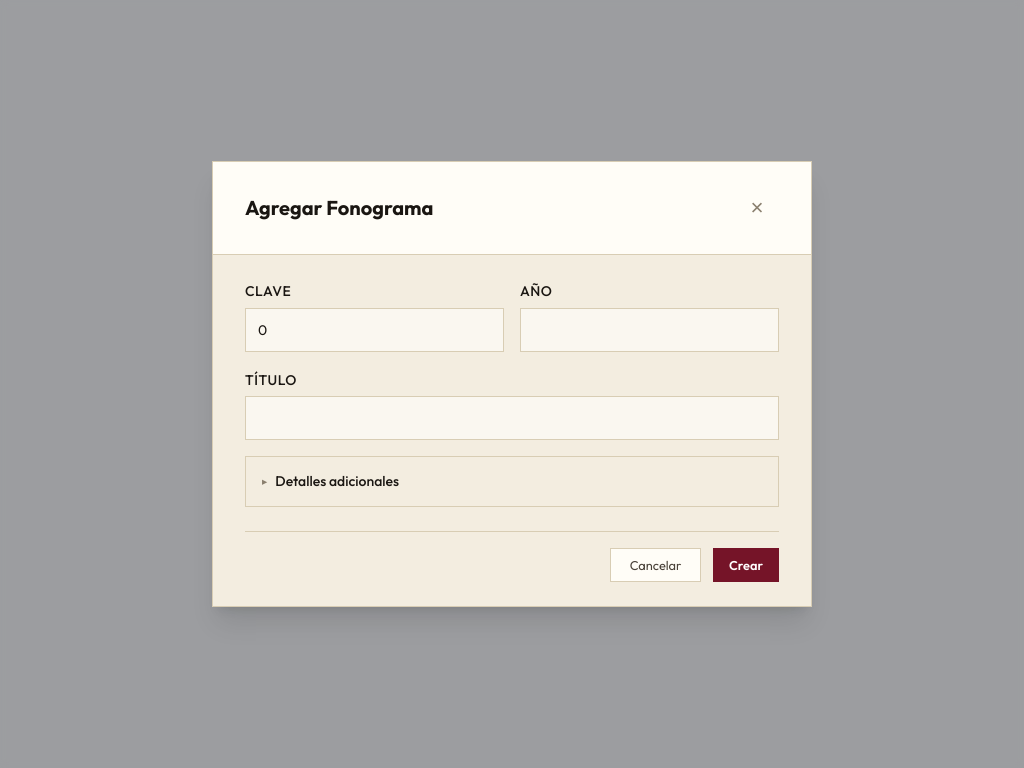
it: AdminFormModal.vue › the create submit-confirm names the new item
The width and height of the screenshot is (1024, 768).
Step 1. Replace the text in the number field with id "clave_fonograma" with "99" → (374, 330), box [245,308,504,352]
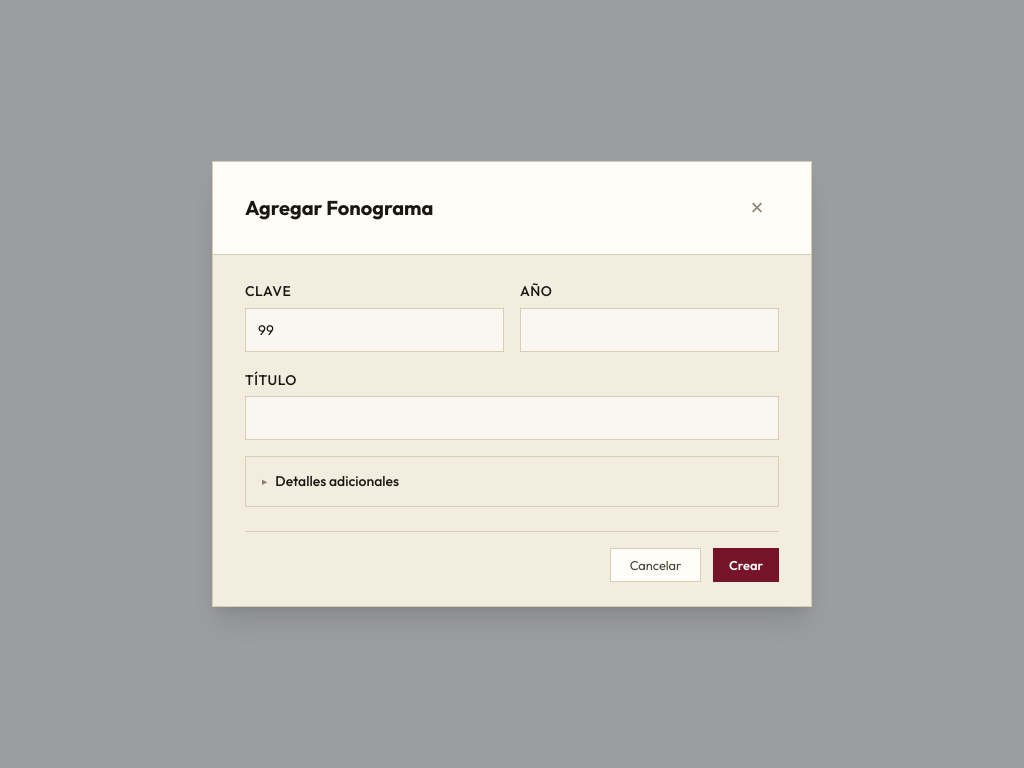
Step 2. Type "Disco prueba" into the field with id "titulo" → (512, 418), box [245,396,779,440]
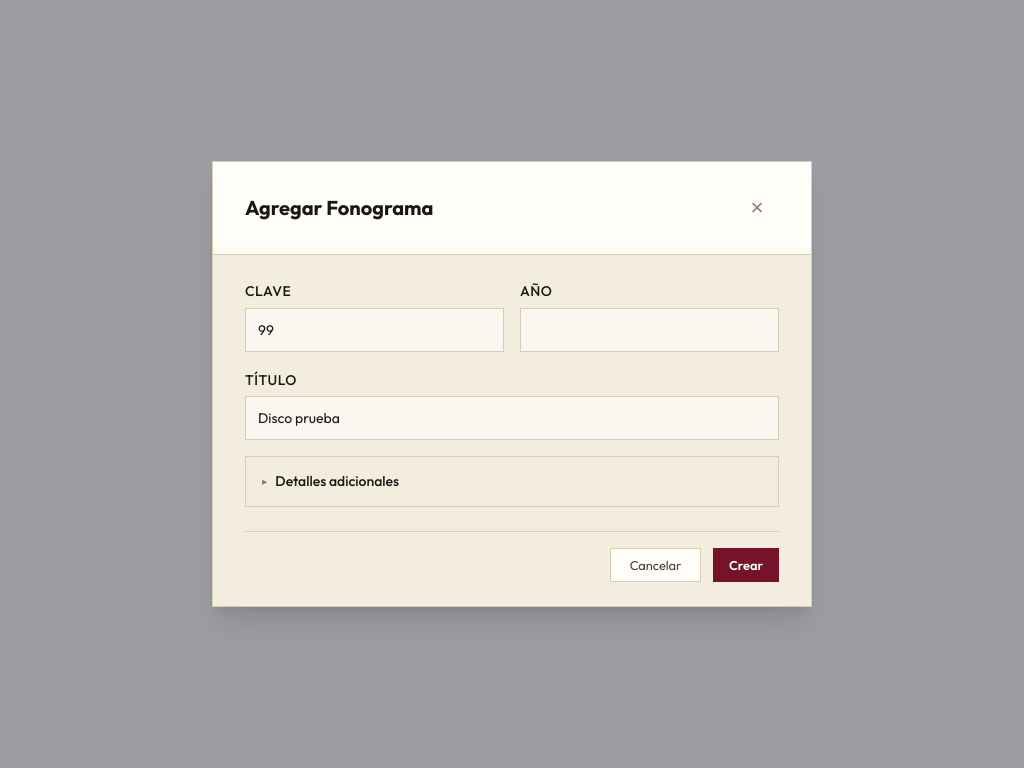
Step 3. Submit the form, box [245,279,779,582]
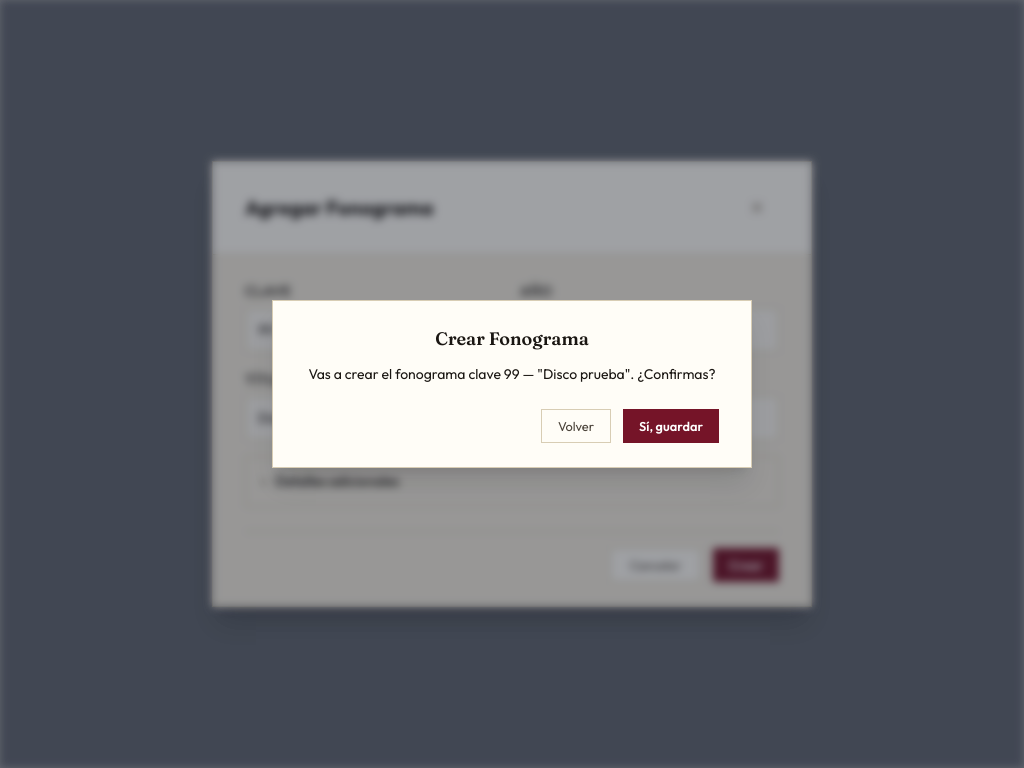
Expected: the text with class "admin-confirm-message" shows "Vas a crear", [308,365,716,383]
Expected: the text with class "admin-confirm-message" shows "clave 99", [308,365,716,383]
Expected: the text with class "admin-confirm-message" shows "\"Disco prueba\"", [308,365,716,383]
